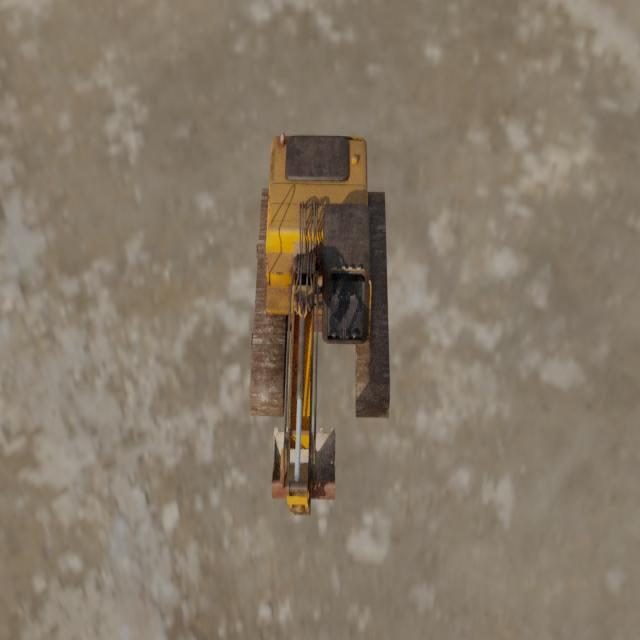excavator: (249, 131, 390, 516)
